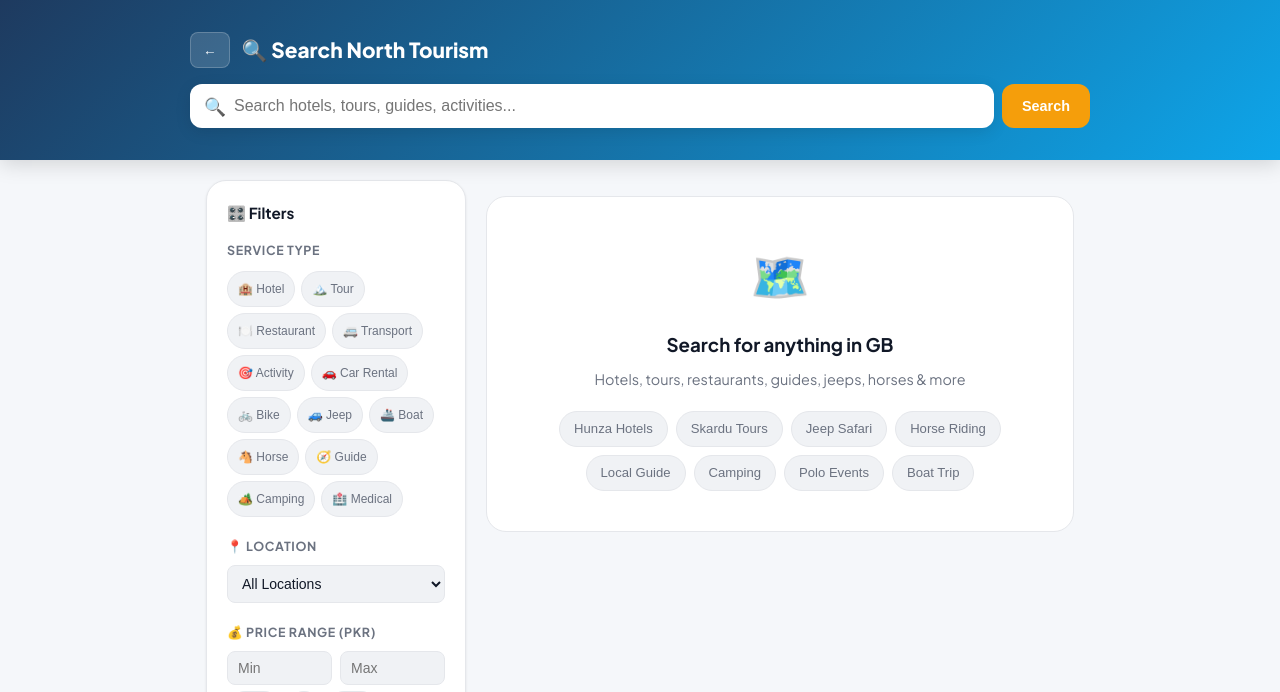
Test: Search page › displays listings after search
The width and height of the screenshot is (1280, 692).
Click the button "Search".
click(1046, 106)  # box [1002,84,1090,128]
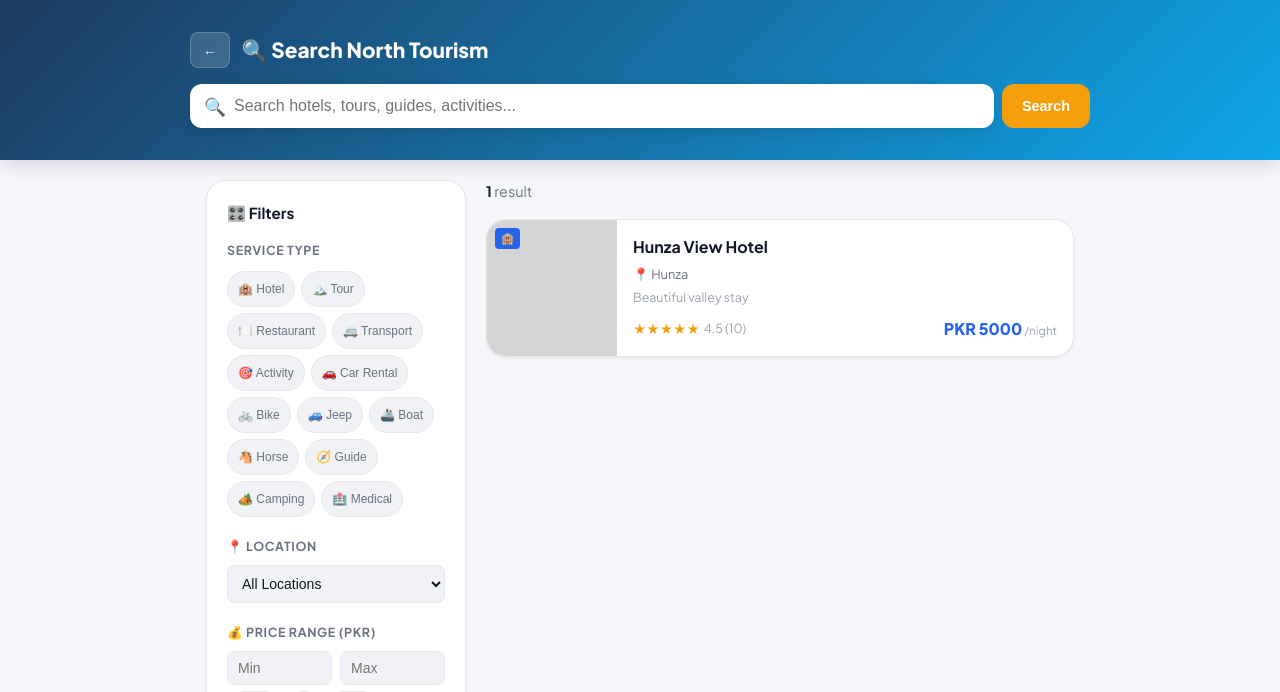
expect the heading "Hunza View Hotel" is shown: met, box [633,236,768,257]
